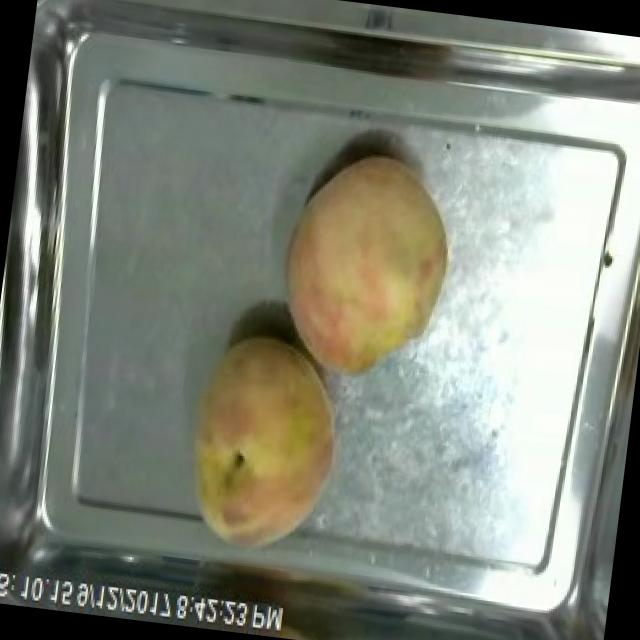Fruit: (266, 140, 470, 390), (170, 322, 358, 566)
